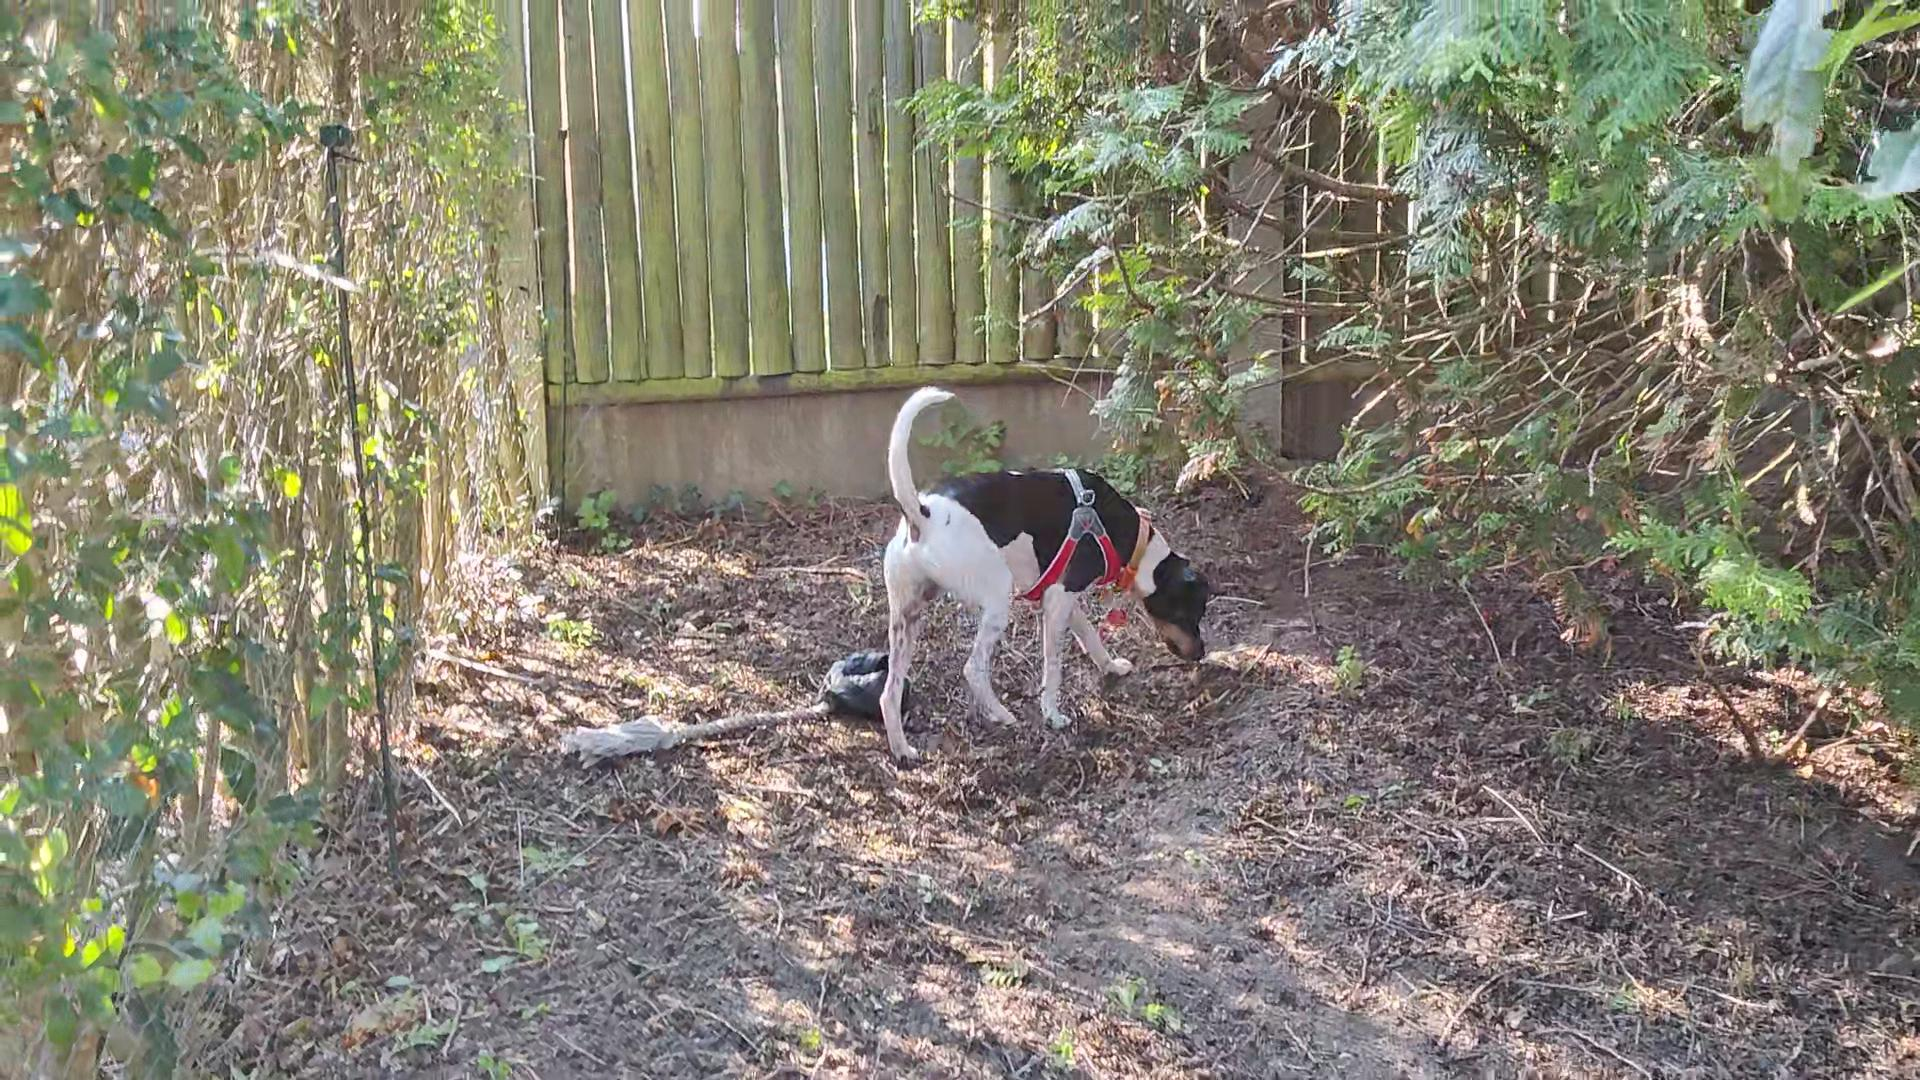Dog: (855, 380, 1212, 779)
